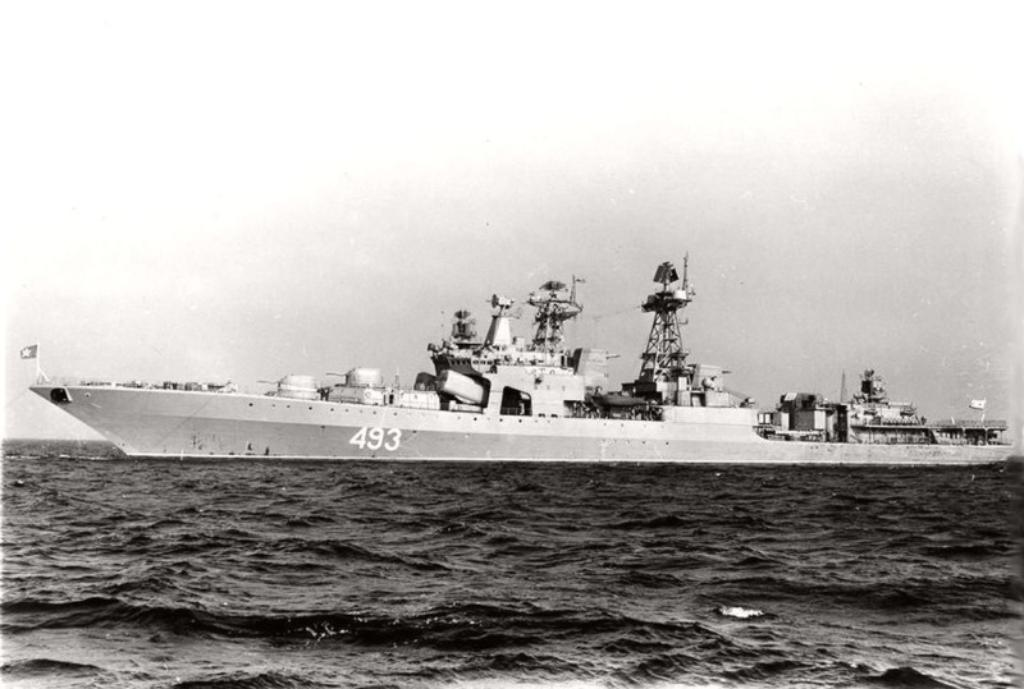Warship: (24, 247, 1012, 468)
